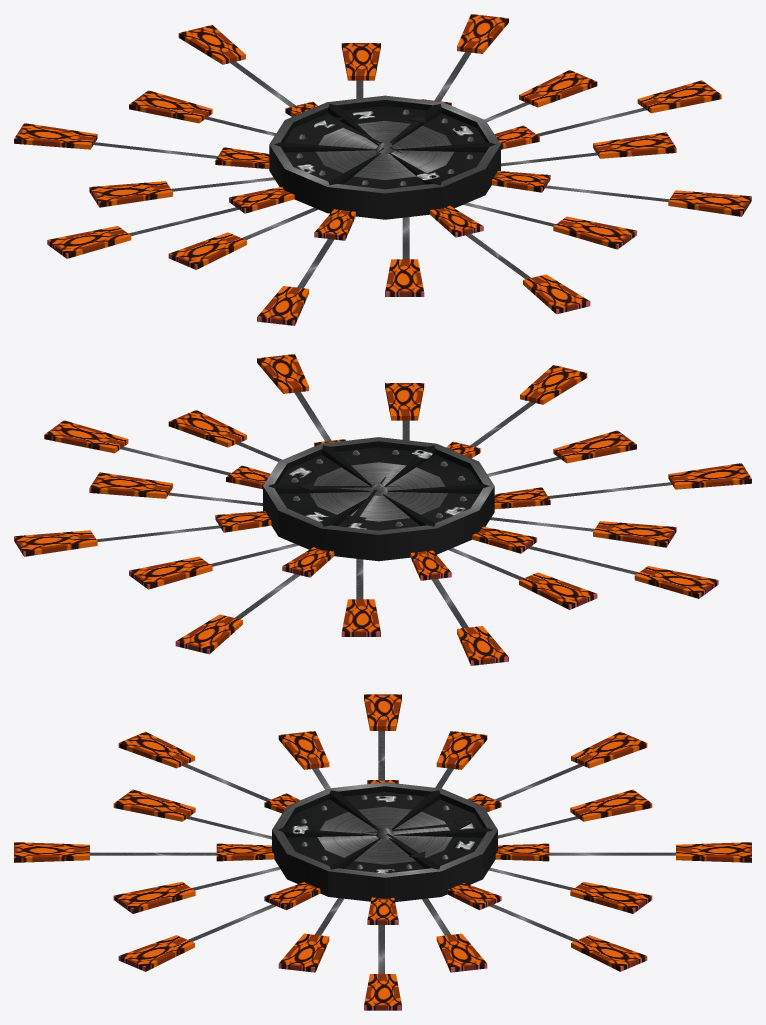
File: Clock_01_A.FBX
3 views of the same model, one above another, from view 1: azimuth 30°, elevation 25°; view 2: azimuth 150°, elevation 25°; view 3: azimuth 270°, elevation 25° (orthographic). The views are drawn at different scales.
Parts seen in each view (by area): view 1: Starburst_Clock; view 2: Starburst_Clock; view 3: Starburst_Clock.
Boxes of the visible parts, bbox=[...] form: Starburst_Clock: bbox=[14, 14, 751, 325]; Starburst_Clock: bbox=[14, 354, 751, 665]; Starburst_Clock: bbox=[14, 694, 751, 1010].
Size of the model in its own units: 78.3 by 3.32 by 78.3.
